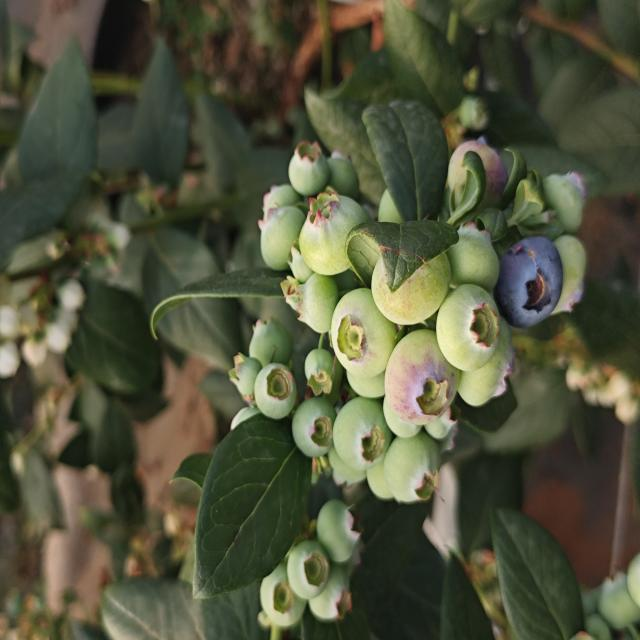ripe: (509, 225, 562, 325)
